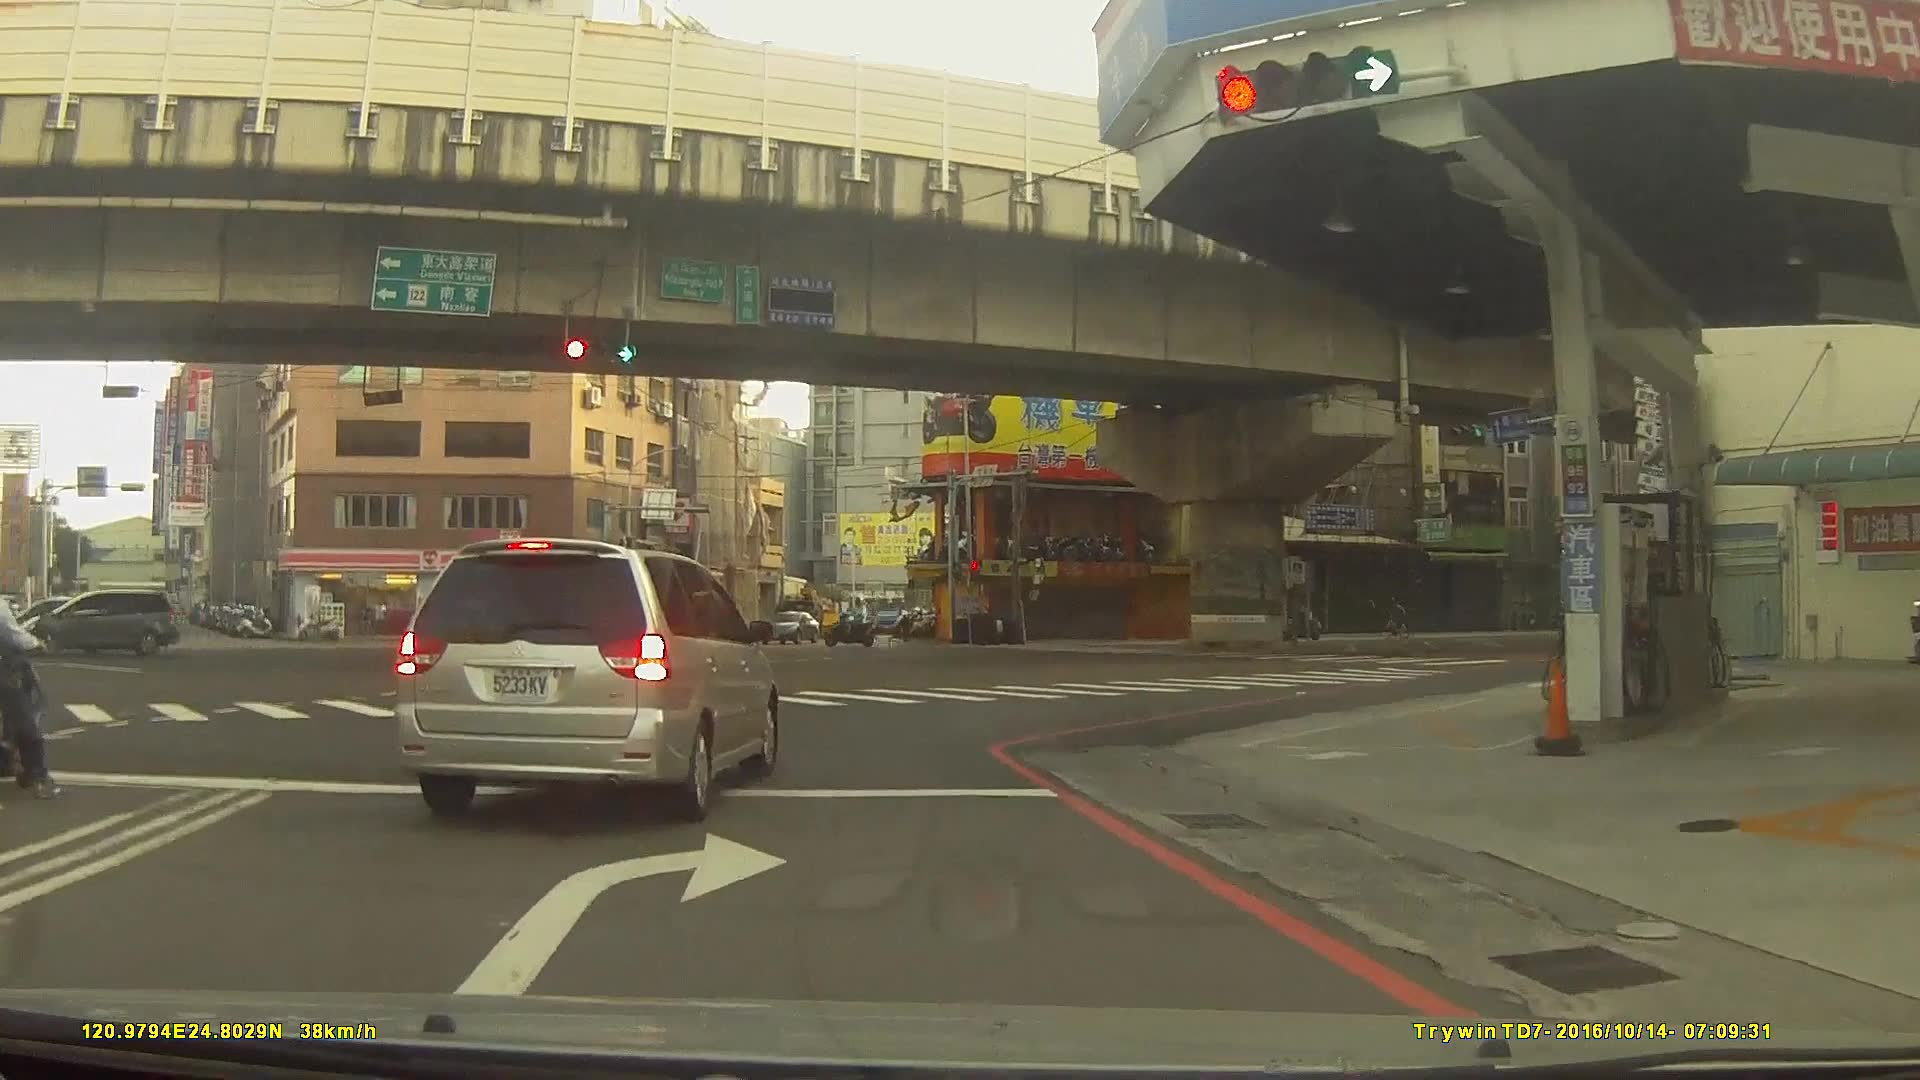rider: (1, 549, 62, 792), (826, 599, 877, 647)
vehicle: (393, 535, 778, 822), (20, 587, 177, 655), (764, 608, 823, 643), (543, 606, 605, 633)
